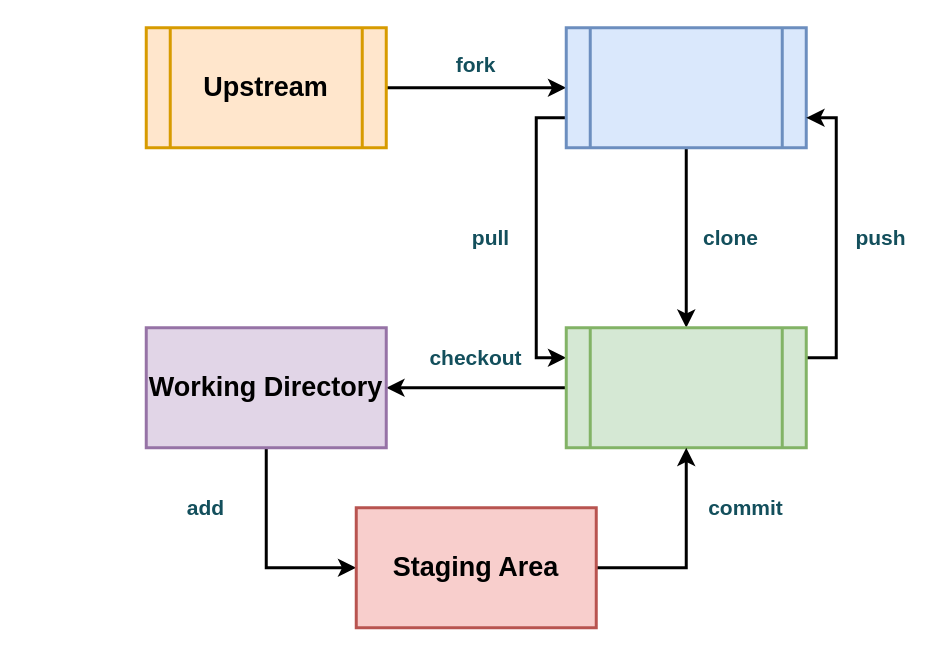
The diagram is 951 pixels wide and 654 high, and some of its shapes have lost their labels. Here are the shapes that lost their labels. From the top down, the box of each, then its label:
(564, 26, 807, 148): Origin
(564, 326, 807, 448): Local
